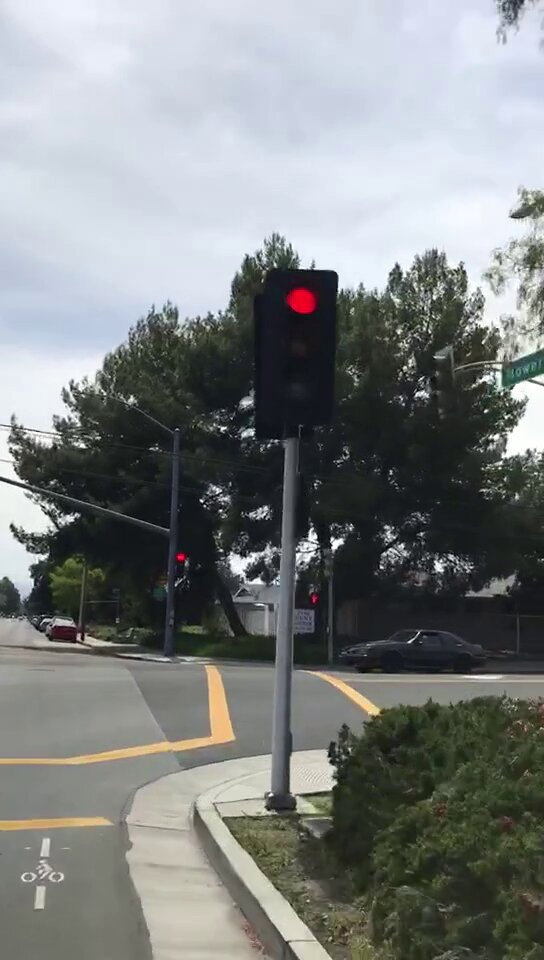red_light: (272, 273, 331, 419), (173, 548, 187, 578)
